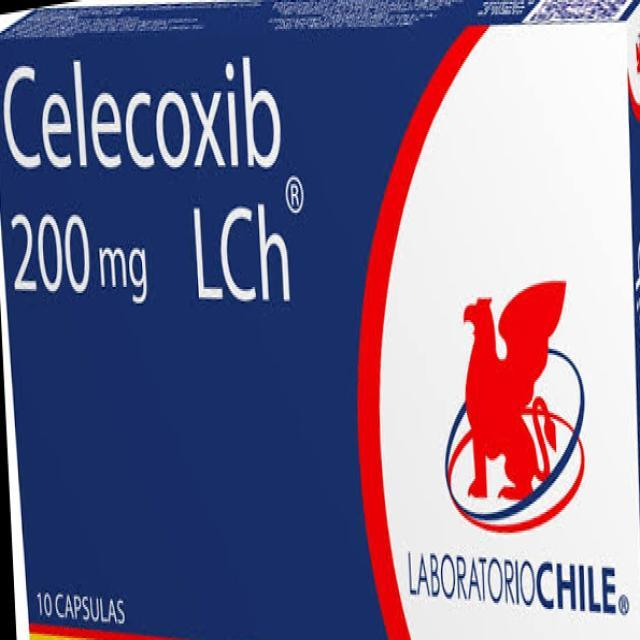drug-name: (3, 51, 288, 178)
